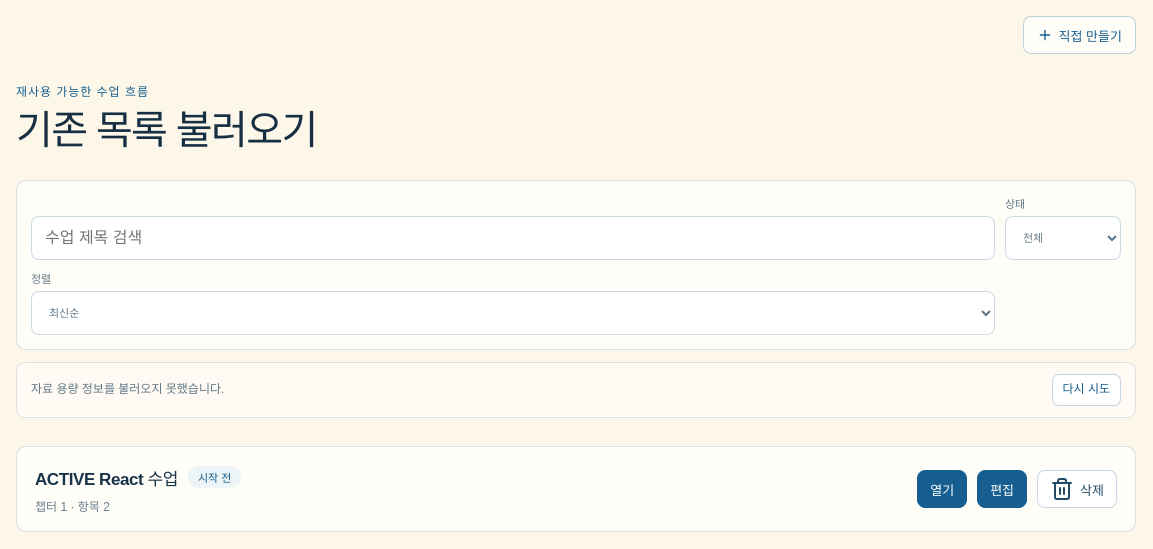
Scenario: CloudCourseCatalogPage › 용량 조회 실패는 목록을 가리지 않고 다시 시도할 수 있다
Expected: the text "자료 용량 정보를 불러오지 못했습니다." is shown, [31,381,224,399]
Expected: the heading "ACTIVE React 수업" is shown, [35,464,178,490]
Click the button "다시 시도" at (1086, 390), box [1052,374,1121,406]
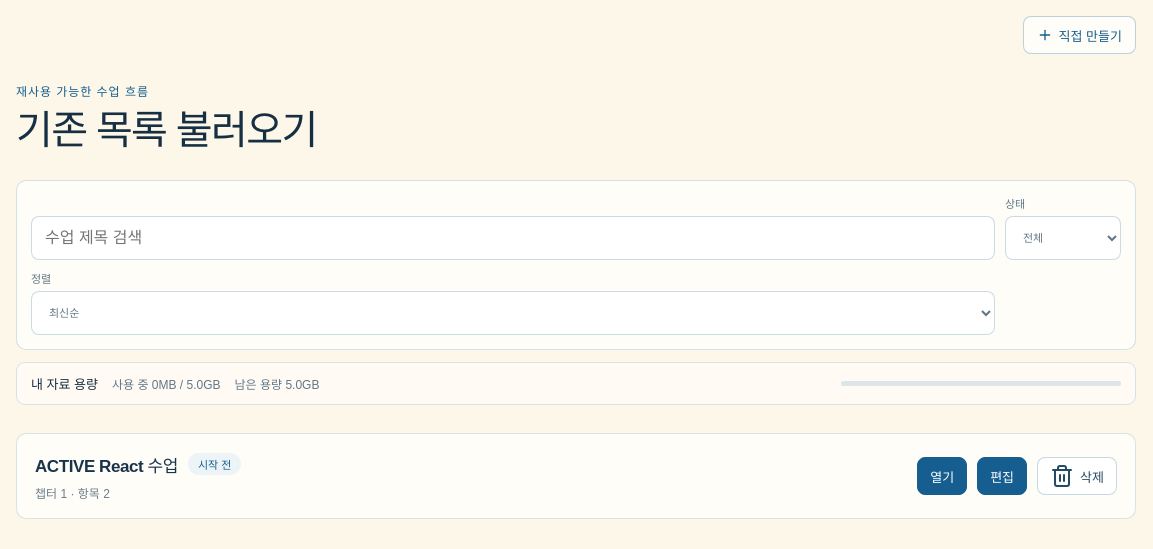
Expected: the element labelled "내 자료 용량" shows "남은 용량 5.0GB", [16,362,1136,405]
